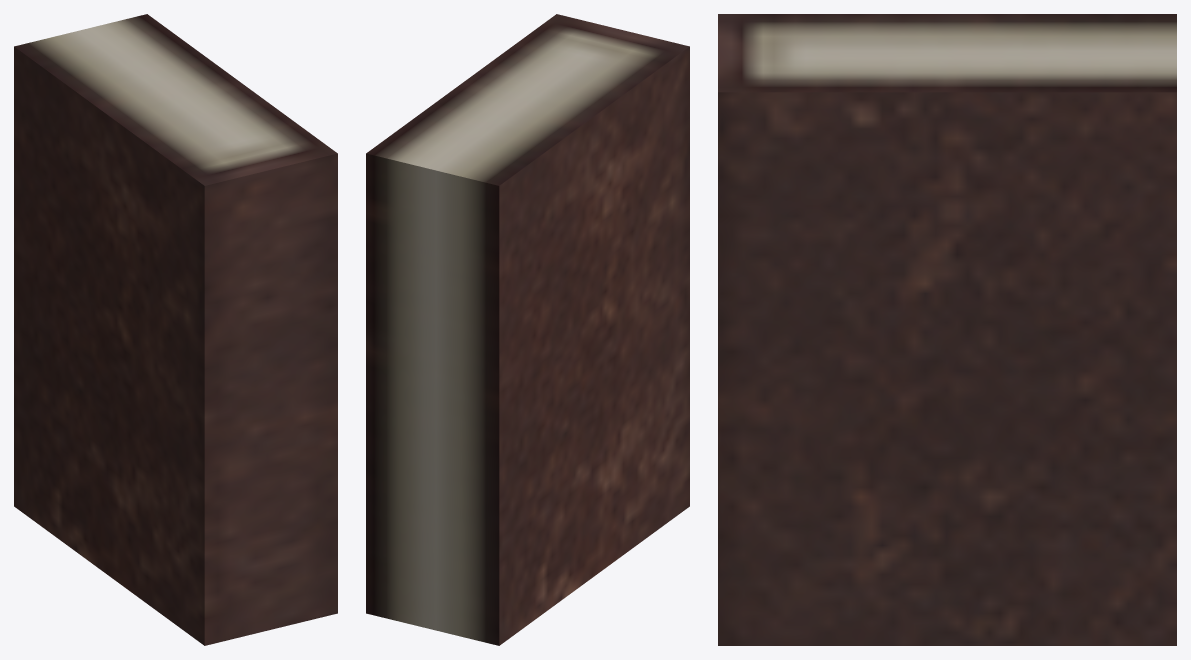
File: Book.Single_3.fbx
3 renders of one model, left to right at view 1: azimuth 30°, elevation 25°; view 2: azimuth 150°, elevation 25°; view 3: azimuth 270°, elevation 25°, orthographic. The views are drawn at different scales.
Visible parts, largest first — view 1: Book.Single_3; view 2: Book.Single_3; view 3: Book.Single_3.
Boxes of the visible parts, x1,y1,x2,y2 form: Book.Single_3: [14, 14, 337, 645]; Book.Single_3: [366, 14, 689, 645]; Book.Single_3: [718, 14, 1176, 645].
Bounding box in the file's own units: 7.13 × 23.54 × 17.67.
